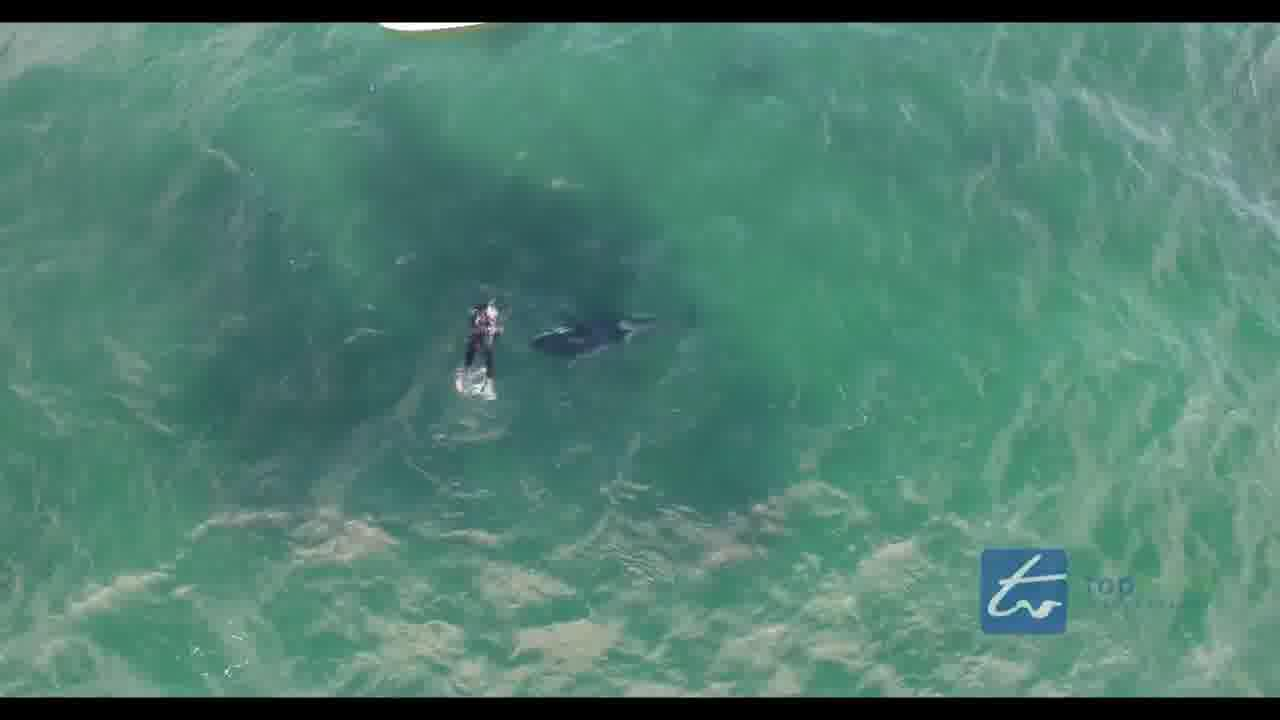human: (456, 292, 509, 400)
